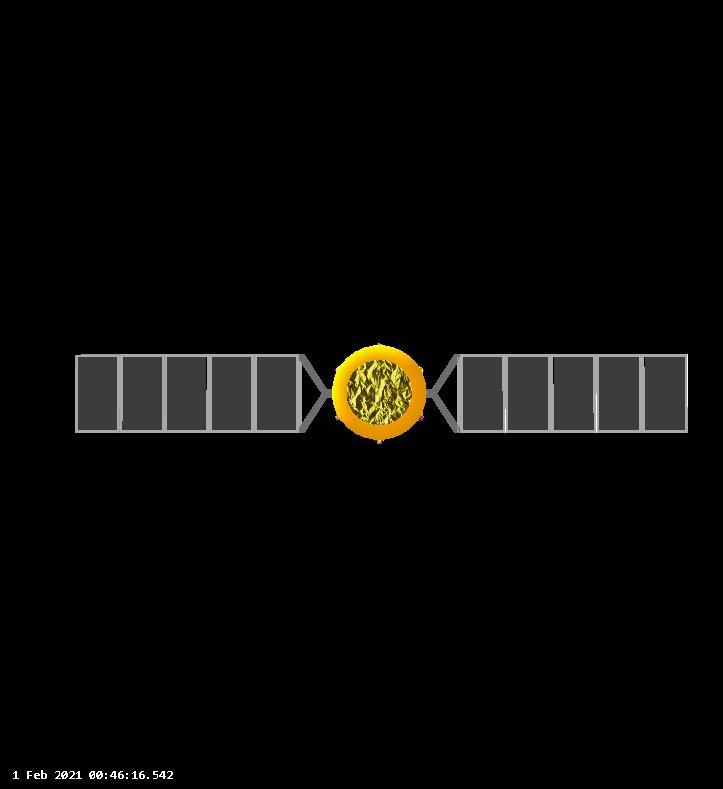body: (330, 342, 428, 444)
solar: (455, 349, 693, 436), (75, 351, 305, 438)
